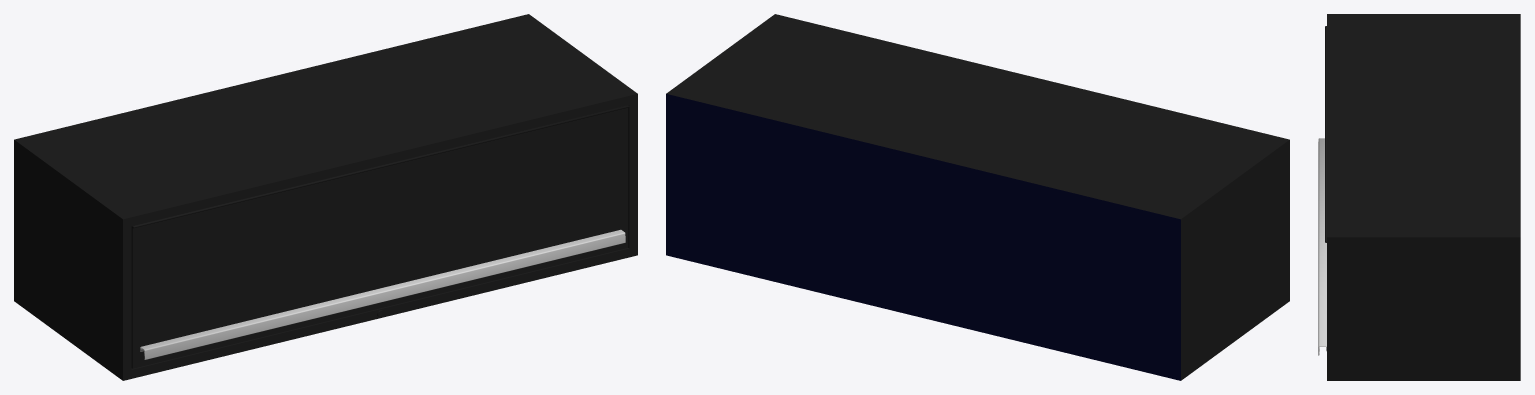
Rendered from overHeads60.glb.
3 renders of one model, left to right at view 1: azimuth 30°, elevation 25°; view 2: azimuth 150°, elevation 25°; view 3: azimuth 270°, elevation 25°, orthographic. The views are drawn at different scales.
Parts seen in each view (by area): view 1: shellFp, doors, handlesFp, hingeFp; view 2: shellFp; view 3: shellFp, handlesFp, hingeFp.
Boxes of the visible parts, <box> form: shellFp: <box>14,14,637,380</box>; doors: <box>131,105,628,368</box>; handlesFp: <box>140,229,625,359</box>; hingeFp: <box>133,105,629,227</box>; shellFp: <box>666,14,1289,380</box>; shellFp: <box>1327,14,1520,380</box>; handlesFp: <box>1318,138,1326,355</box>; hingeFp: <box>1325,26,1326,242</box>.
Bounding box in the file's own units: 1.52 × 0.4572 × 0.5842.
Materials: 4 (1 with a texture image).
